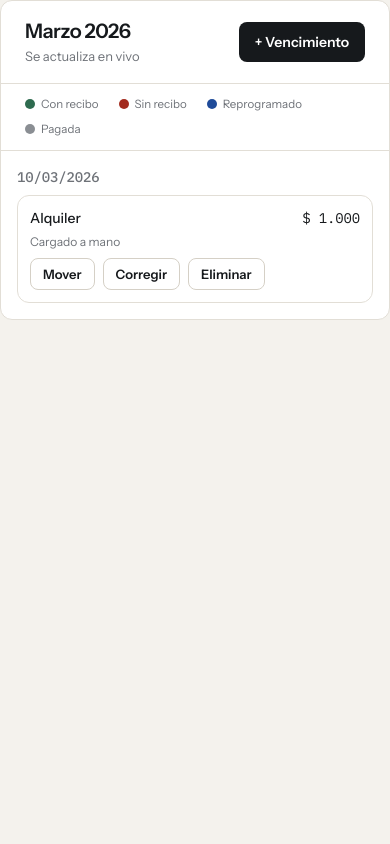
mover un vencimiento al pasado (RF-25) › una negativa sin código se muestra como error, sin preguntar nada
Click the button "Mover" at [62, 274], box top-left (30, 258), bottom-right (94, 290)
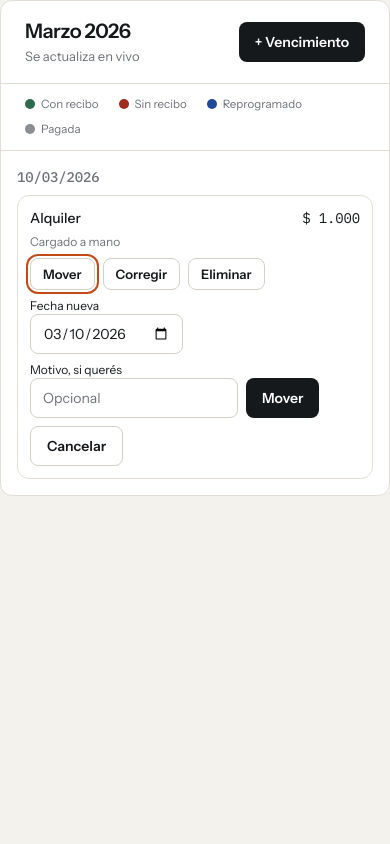
Type "2026-03-20" into the date field labelled "Fecha nueva" at [106, 334], box top-left (30, 314), bottom-right (183, 354)
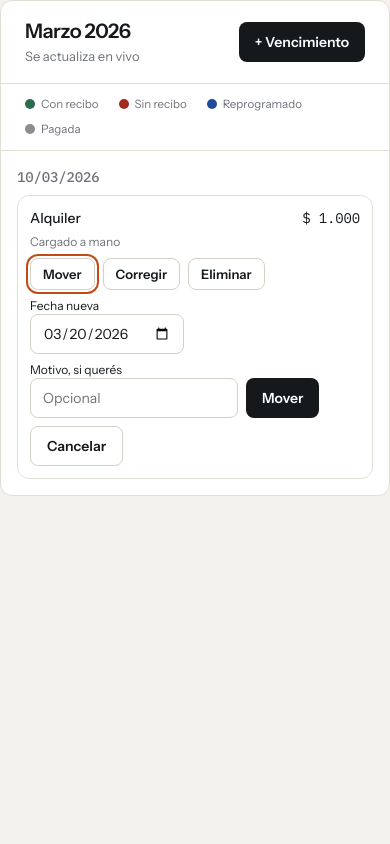
Submit the form labelled "Fecha nueva", box top-left (30, 298), bottom-right (360, 466)
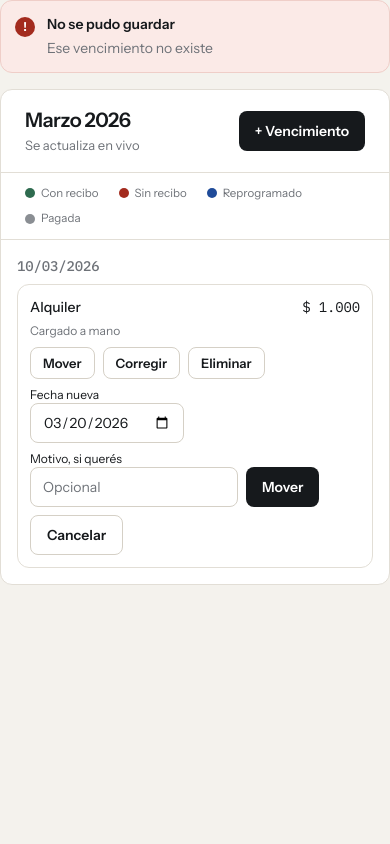
Result: the text "Ese vencimiento no existe" is shown at top-left (47, 39), bottom-right (213, 57)
